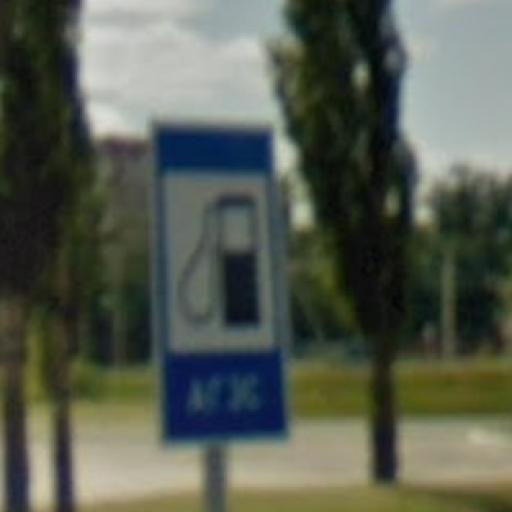traffic_sign: (150, 121, 294, 451)
